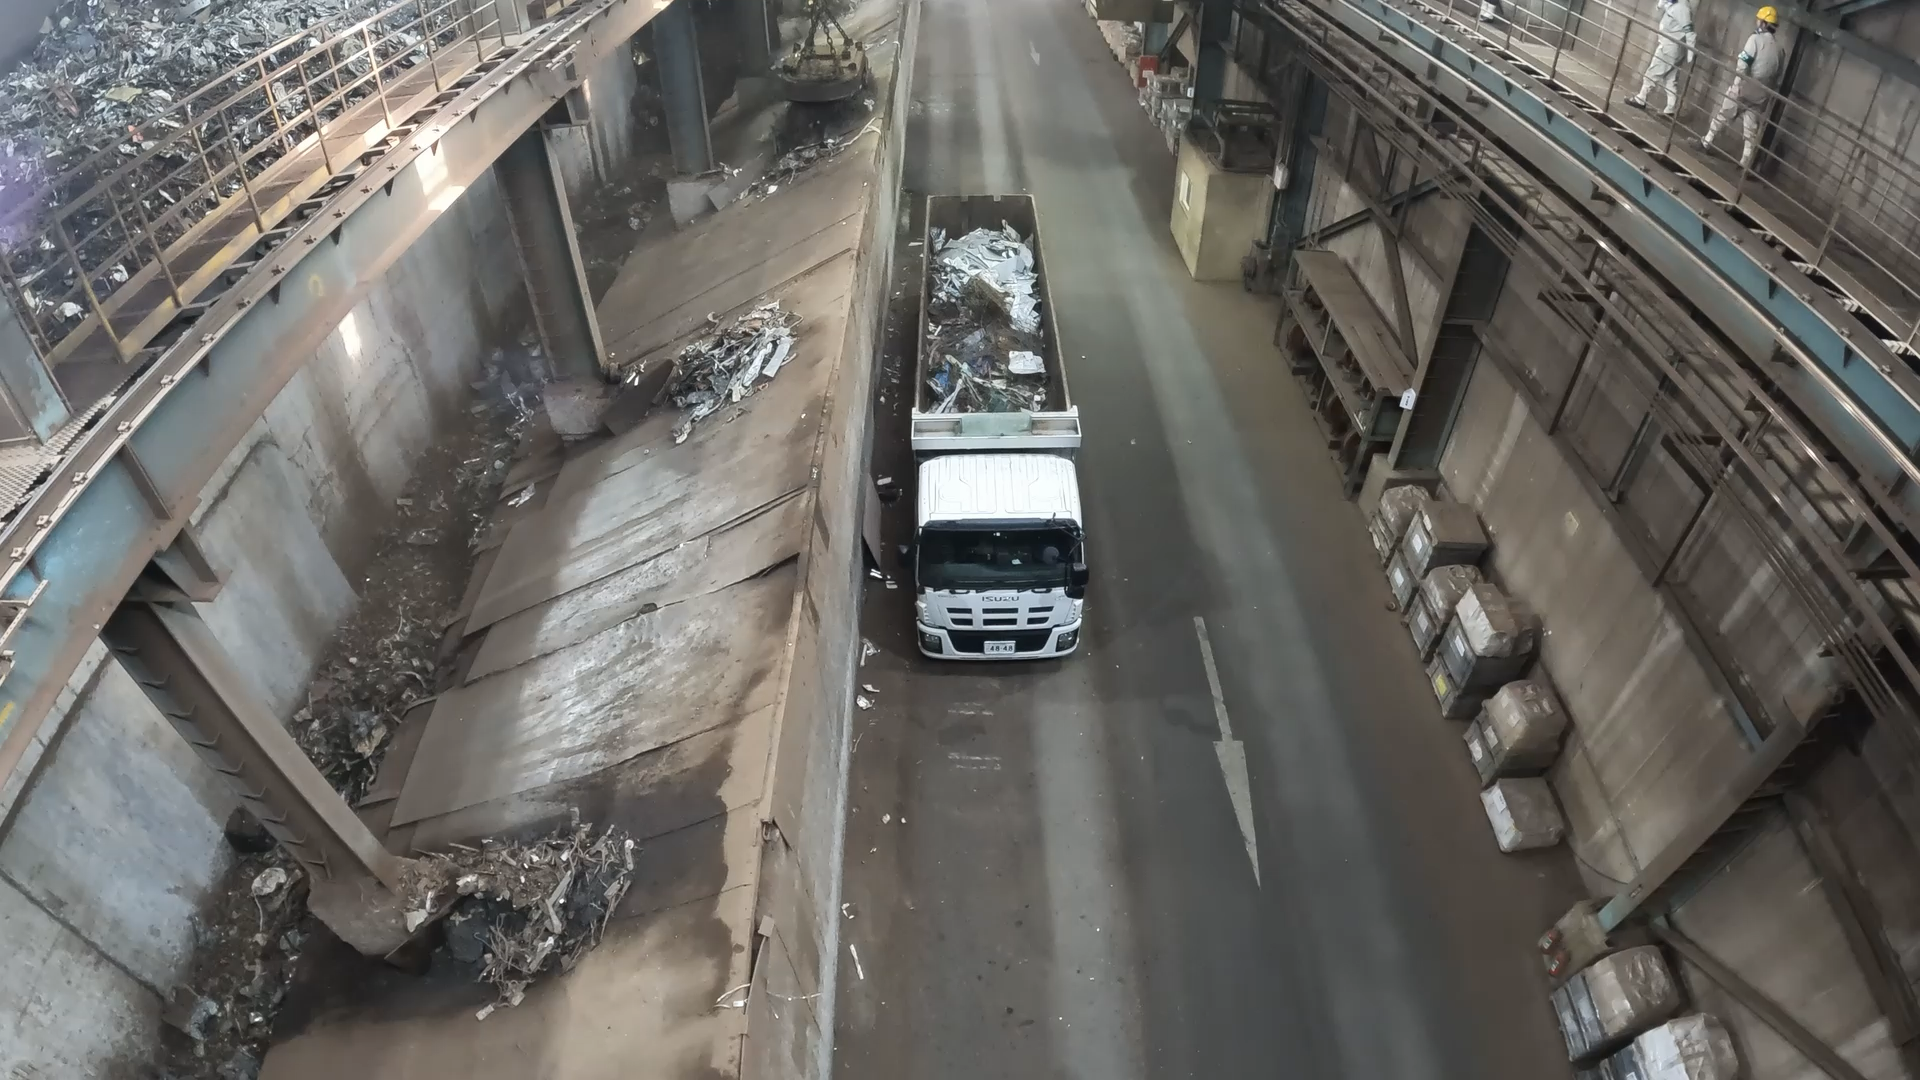truck: (916, 194, 1069, 415)
